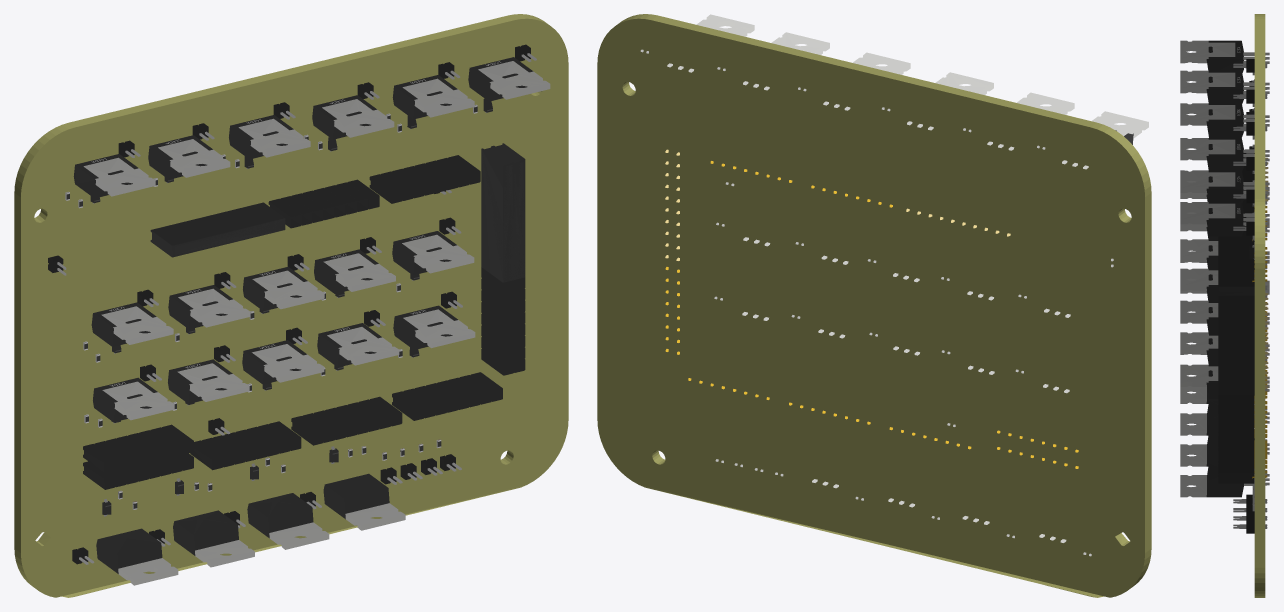
Rendered from OBJ_PCB_Monster.obj.
3 views of the same model, side by side, from view 1: azimuth 30°, elevation 25°; view 2: azimuth 150°, elevation 25°; view 3: azimuth 270°, elevation 25° (orthographic). The views are drawn at different scales.
Bounding box in the file's own units: 489 × 401 × 82.09.
